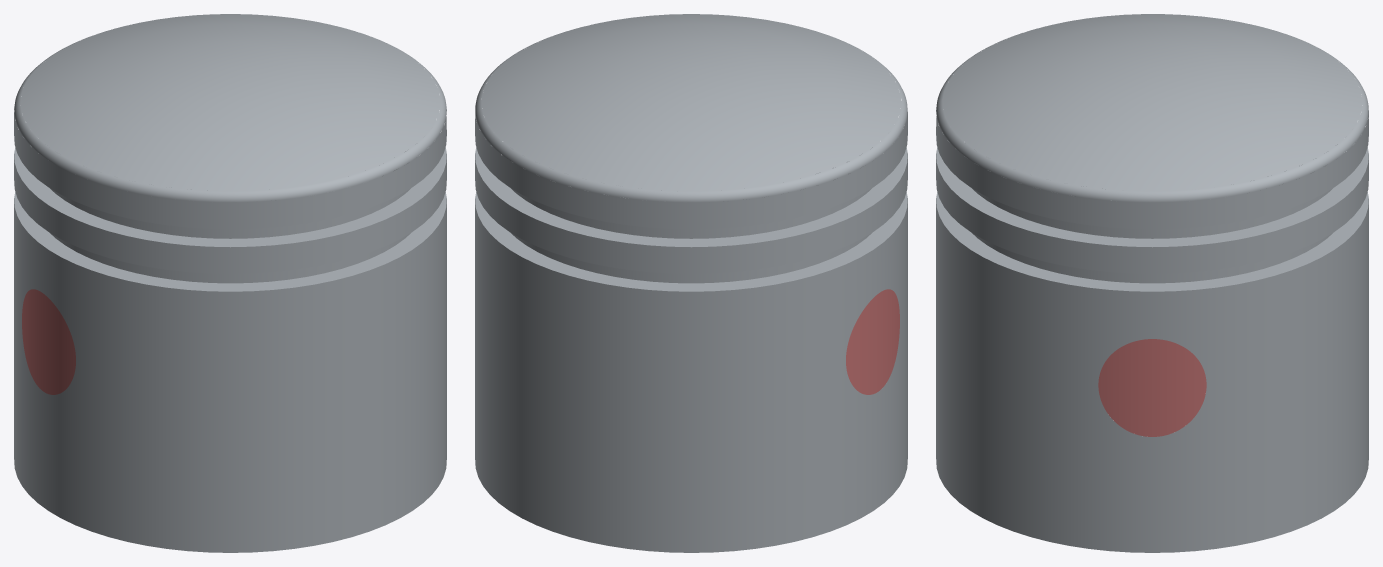
Rendered from step_06.glb.
The picture shows the model from 3 angles, left to right: view 1: azimuth 30°, elevation 25°; view 2: azimuth 150°, elevation 25°; view 3: azimuth 270°, elevation 25°; orthographic projection.
Visible parts, largest first — view 1: part__piston head, removed__piston head; view 2: part__piston head, removed__piston head; view 3: part__piston head, removed__piston head.
Boxes of the visible parts, x1,y1,x2,y2 form: part__piston head: [14, 14, 446, 552]; removed__piston head: [22, 289, 75, 394]; part__piston head: [475, 14, 907, 552]; removed__piston head: [846, 289, 899, 394]; part__piston head: [936, 14, 1368, 552]; removed__piston head: [1098, 339, 1206, 436].
Bounding box in the file's own units: 44 × 44 × 44.
